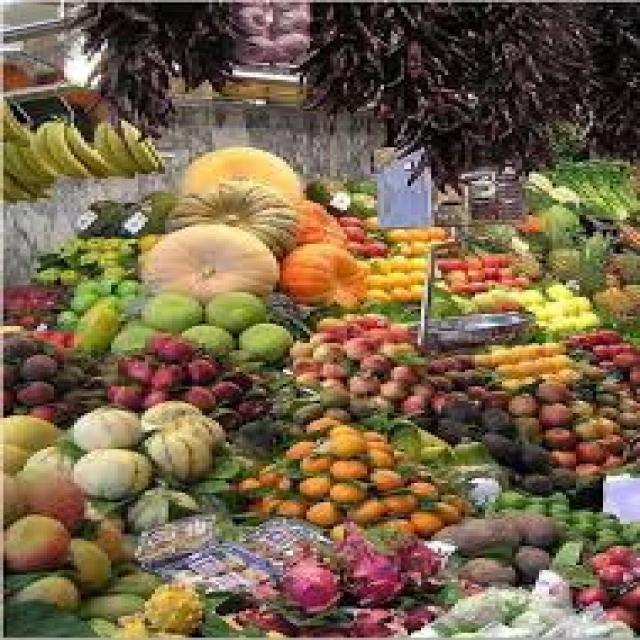organic waste: (377, 0, 499, 186), (492, 0, 593, 174), (64, 0, 172, 138), (158, 174, 296, 256), (135, 220, 276, 294), (299, 0, 394, 106), (582, 0, 636, 162), (158, 0, 232, 92), (175, 145, 300, 198), (273, 239, 364, 307), (330, 514, 398, 599), (14, 442, 84, 517), (418, 309, 536, 350), (276, 534, 340, 608), (67, 449, 155, 495), (232, 577, 296, 638), (138, 425, 206, 481), (0, 512, 64, 570), (384, 526, 441, 590), (546, 165, 613, 218), (458, 160, 519, 218), (3, 599, 91, 638), (67, 406, 145, 447), (428, 514, 515, 550), (536, 244, 603, 290), (286, 196, 344, 248), (142, 585, 202, 635), (61, 532, 111, 590), (489, 505, 559, 546), (7, 575, 77, 616), (222, 418, 300, 454), (57, 118, 108, 172), (576, 167, 633, 215), (41, 118, 88, 176), (384, 596, 445, 638), (30, 118, 74, 176), (199, 290, 266, 328), (71, 294, 118, 348), (134, 290, 198, 328), (118, 116, 162, 171), (592, 162, 636, 217), (216, 606, 290, 638), (0, 143, 47, 193), (333, 604, 401, 638), (118, 188, 168, 234), (232, 319, 290, 357), (0, 413, 61, 449), (452, 218, 516, 252), (549, 538, 596, 584), (182, 476, 242, 512), (262, 290, 306, 338), (101, 560, 165, 592), (539, 205, 583, 251), (198, 592, 242, 638), (80, 495, 124, 539), (178, 415, 222, 459), (88, 121, 124, 174), (91, 529, 135, 572), (108, 614, 185, 638), (98, 123, 138, 169), (522, 167, 573, 203), (142, 331, 196, 365), (178, 324, 236, 355), (337, 492, 387, 526), (108, 316, 155, 352), (300, 176, 347, 212), (455, 556, 515, 584), (384, 410, 418, 459), (465, 217, 515, 249), (256, 456, 300, 491), (590, 280, 634, 314), (448, 432, 492, 466), (296, 611, 351, 638), (138, 399, 195, 425), (553, 123, 586, 167), (431, 181, 468, 220), (576, 230, 616, 266), (17, 143, 54, 181), (71, 594, 141, 614), (363, 300, 418, 324), (94, 200, 135, 232), (68, 196, 104, 232), (509, 439, 549, 471), (0, 442, 44, 471), (428, 413, 475, 440), (600, 244, 636, 278), (411, 464, 475, 483), (388, 321, 432, 348), (347, 495, 384, 527), (323, 452, 368, 478), (505, 544, 546, 572), (44, 430, 88, 456), (472, 406, 516, 432), (4, 568, 51, 592), (114, 355, 155, 382), (58, 384, 104, 408), (232, 34, 270, 63), (478, 425, 512, 457), (263, 380, 293, 416), (266, 31, 303, 60), (569, 413, 613, 437), (300, 304, 344, 328), (606, 215, 637, 249), (603, 604, 637, 635), (209, 452, 259, 473), (300, 498, 337, 526), (428, 498, 465, 526), (13, 352, 54, 377), (424, 386, 465, 411), (401, 509, 441, 534), (0, 333, 37, 360), (508, 249, 546, 275), (3, 104, 27, 145), (532, 200, 573, 224), (323, 478, 364, 502), (229, 5, 266, 31), (559, 481, 596, 507), (135, 382, 175, 406), (27, 398, 67, 422), (573, 437, 606, 466), (0, 171, 30, 202), (178, 358, 216, 382), (104, 379, 145, 401), (14, 379, 51, 403), (340, 336, 377, 360), (532, 377, 566, 403), (262, 497, 306, 517), (505, 468, 549, 488), (313, 437, 364, 454), (30, 251, 81, 268), (414, 439, 448, 464), (145, 365, 185, 386), (313, 374, 344, 401), (370, 517, 414, 536), (269, 7, 310, 27), (212, 362, 249, 384), (347, 367, 377, 394), (0, 282, 67, 294), (374, 490, 414, 510), (593, 563, 626, 587), (50, 365, 91, 384), (306, 340, 344, 360), (600, 319, 636, 340), (0, 99, 17, 143), (367, 466, 401, 488), (340, 391, 374, 413), (539, 425, 573, 447), (488, 486, 519, 510), (179, 384, 212, 406), (296, 476, 334, 495), (593, 428, 623, 452), (374, 340, 414, 358), (404, 481, 438, 502), (505, 389, 532, 415), (206, 406, 239, 427), (570, 582, 606, 601), (64, 292, 98, 312), (206, 381, 239, 401), (233, 398, 266, 418), (236, 476, 263, 500), (347, 191, 374, 215), (532, 401, 566, 420), (67, 514, 98, 534), (306, 328, 347, 343), (58, 87, 94, 104), (512, 287, 542, 307), (425, 294, 458, 312), (81, 352, 114, 370), (438, 492, 471, 510), (377, 374, 404, 396), (360, 447, 391, 466), (296, 452, 327, 471), (313, 360, 344, 379), (576, 548, 610, 565), (354, 348, 384, 367), (0, 63, 27, 84), (434, 398, 465, 416), (115, 292, 138, 316), (610, 580, 636, 601), (546, 464, 572, 485), (47, 346, 81, 362), (283, 398, 313, 416), (293, 367, 320, 387), (347, 176, 374, 196), (488, 290, 516, 309), (387, 362, 411, 384), (590, 526, 616, 546), (610, 408, 636, 428), (404, 377, 431, 396), (492, 360, 519, 379), (327, 519, 357, 536), (303, 415, 337, 430), (357, 410, 384, 428), (512, 212, 536, 232), (64, 278, 94, 294), (219, 348, 253, 362), (323, 423, 357, 437), (478, 389, 506, 406), (572, 464, 600, 481), (340, 312, 374, 326), (280, 442, 313, 456), (603, 543, 626, 563), (337, 222, 364, 239), (317, 403, 347, 418), (562, 522, 590, 538), (398, 394, 424, 411), (563, 396, 586, 415), (431, 254, 462, 268), (451, 352, 475, 370), (360, 437, 388, 452), (357, 324, 387, 338), (556, 364, 579, 382), (0, 358, 17, 382), (286, 355, 320, 367), (579, 362, 603, 379), (424, 222, 448, 239), (387, 285, 411, 302), (448, 297, 475, 312), (111, 280, 138, 295), (516, 415, 536, 435), (91, 275, 111, 295), (40, 292, 60, 312), (317, 384, 340, 401), (536, 355, 559, 372), (30, 261, 50, 280), (569, 312, 596, 326), (54, 266, 81, 280), (364, 306, 384, 324), (114, 236, 134, 254), (30, 326, 54, 341), (50, 328, 70, 346), (360, 239, 384, 254), (586, 509, 613, 522), (623, 432, 637, 457), (472, 292, 495, 307), (229, 0, 263, 10), (266, 0, 300, 10), (0, 292, 20, 309), (344, 239, 364, 256), (384, 253, 404, 270), (0, 384, 13, 410), (620, 283, 636, 304), (542, 283, 566, 297), (518, 500, 546, 512), (286, 341, 310, 355), (101, 261, 125, 275), (380, 227, 408, 239), (438, 266, 465, 278), (569, 346, 596, 358), (512, 346, 539, 358), (61, 237, 84, 251), (364, 273, 387, 287), (600, 452, 626, 464), (84, 253, 108, 266), (330, 210, 361, 220), (620, 551, 636, 570), (566, 292, 586, 307), (603, 367, 623, 382), (516, 357, 536, 372), (81, 234, 101, 249), (408, 227, 428, 242), (421, 285, 445, 297), (239, 382, 263, 394), (613, 396, 637, 408), (421, 360, 445, 372), (384, 242, 408, 254), (360, 256, 384, 268), (529, 302, 549, 316), (542, 500, 562, 514), (374, 394, 394, 408), (539, 341, 559, 355), (404, 254, 424, 268), (404, 283, 424, 297), (546, 314, 569, 326), (593, 514, 616, 526), (566, 507, 589, 519), (590, 404, 613, 416), (475, 348, 492, 364), (444, 367, 462, 382), (458, 253, 478, 266), (549, 299, 566, 314), (360, 213, 378, 227), (30, 70, 50, 82), (465, 266, 485, 278), (408, 410, 428, 422), (465, 382, 485, 394), (58, 309, 78, 321), (34, 312, 54, 324), (388, 270, 404, 285), (519, 490, 542, 500), (24, 295, 40, 309), (478, 253, 495, 266), (552, 350, 570, 362), (488, 348, 512, 357), (532, 314, 549, 326), (14, 314, 31, 326), (411, 242, 428, 254), (570, 384, 590, 394), (482, 264, 498, 276), (98, 236, 114, 248), (589, 392, 620, 398), (496, 377, 516, 386), (434, 355, 452, 365), (364, 290, 384, 299), (448, 280, 465, 290), (616, 526, 630, 538), (360, 428, 378, 437), (81, 377, 104, 384), (468, 282, 488, 290), (546, 490, 562, 500), (516, 374, 532, 384), (404, 271, 421, 280), (495, 249, 505, 263), (482, 278, 502, 285), (616, 522, 636, 529), (0, 311, 13, 321), (502, 276, 522, 282), (590, 382, 610, 388), (499, 266, 512, 275), (532, 372, 552, 377)
